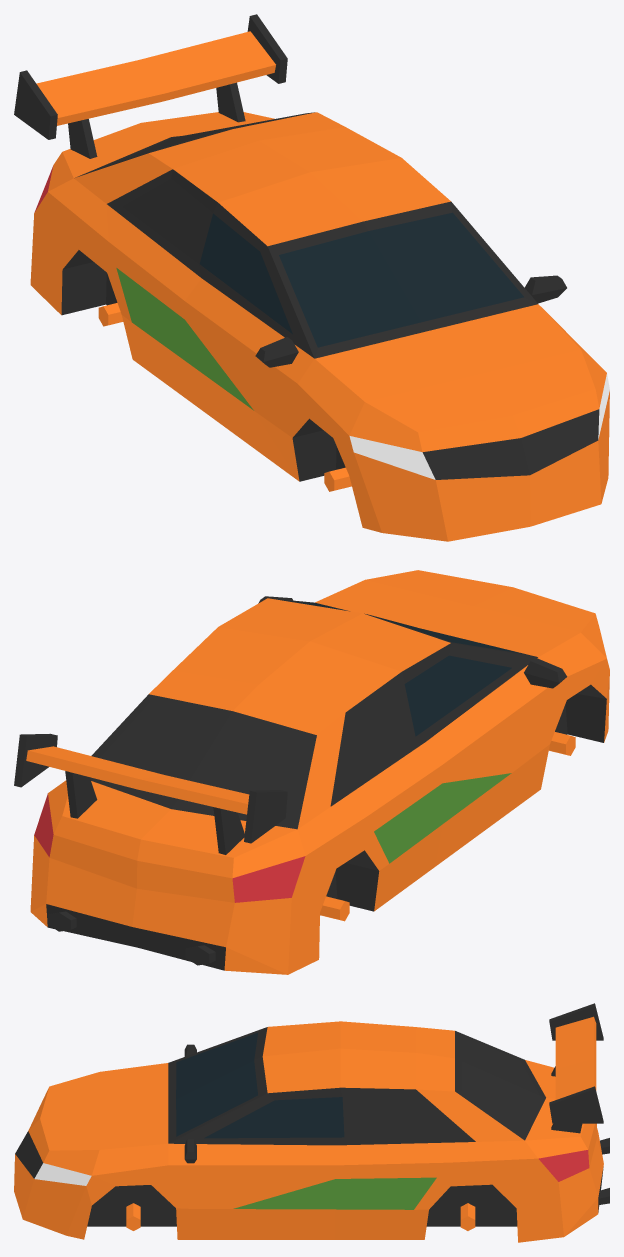
File: car-passenger-race-base.glb
The picture shows the model from 3 angles, top to bottom: view 1: azimuth 30°, elevation 25°; view 2: azimuth 150°, elevation 25°; view 3: azimuth 270°, elevation 25°; orthographic projection. The views are drawn at different scales.
Parts seen in each view (by area): view 1: car-passenger-race-base; view 2: car-passenger-race-base; view 3: car-passenger-race-base.
Part boxes in pixels (box(x1,y1,x2,y2)): car-passenger-race-base: box(14, 14, 609, 541); car-passenger-race-base: box(14, 570, 609, 974); car-passenger-race-base: box(14, 1003, 609, 1242).
Size of the model in its own units: 2.1 by 1.34 by 4.81.
Materials: 1 (1 with a texture image).
